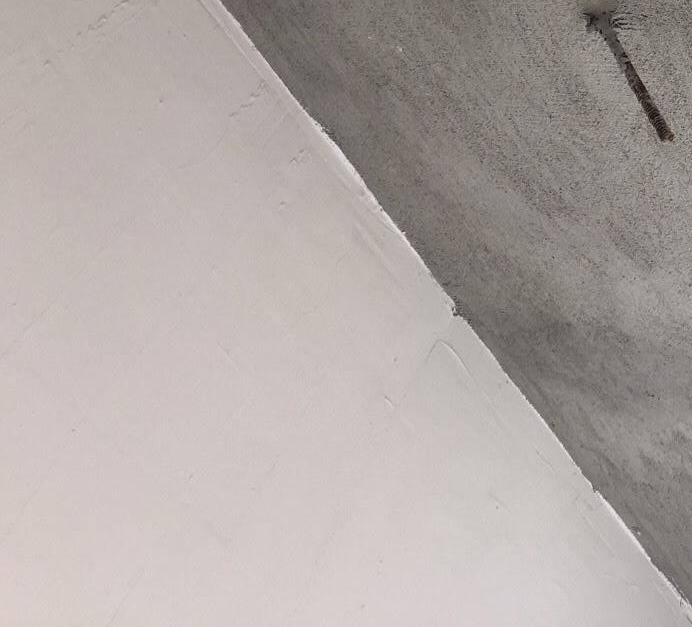Exposed reinforcement: (584, 12, 675, 143)
